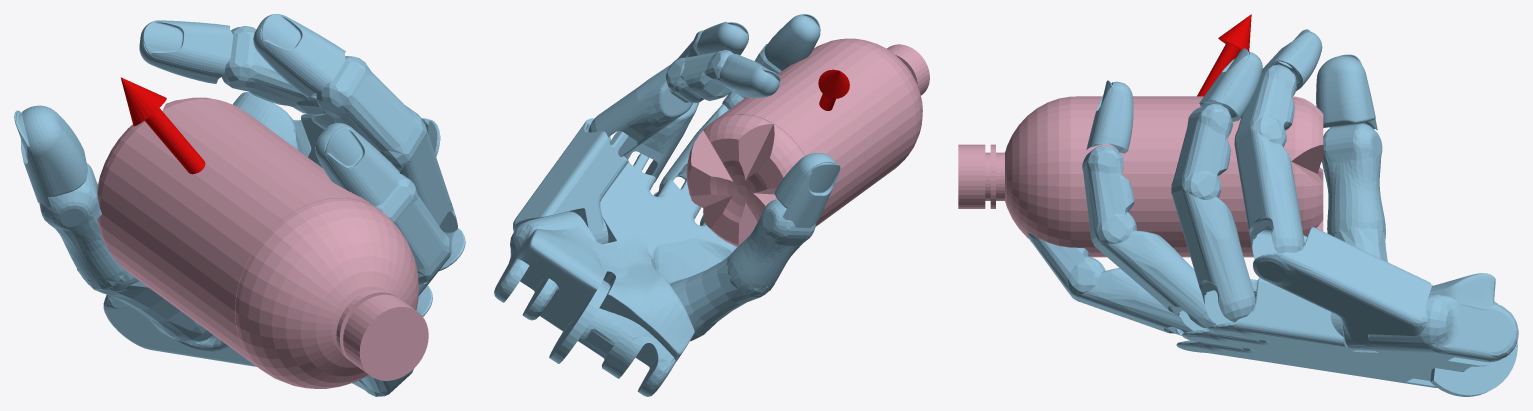
3 views of the same model, side by side, from view 1: azimuth 30°, elevation 25°; view 2: azimuth 150°, elevation 25°; view 3: azimuth 270°, elevation 25° (orthographic). The views are drawn at different scales.
Visible parts, largest first — view 1: water_bottle.stl, world; view 2: world, water_bottle.stl; view 3: world, water_bottle.stl.
Part boxes in pixels (x1,y1,x2,y2): water_bottle.stl: (97, 97, 428, 388); world: (14, 14, 465, 396); world: (494, 14, 849, 396); water_bottle.stl: (686, 38, 929, 246); world: (1027, 14, 1518, 396); water_bottle.stl: (958, 96, 1323, 257).
Size of the model in its own units: 0.1372 by 0.1398 by 0.2095.
